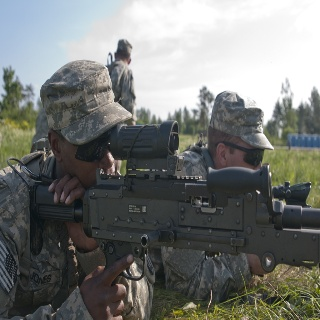rifle: (29, 119, 320, 282)
